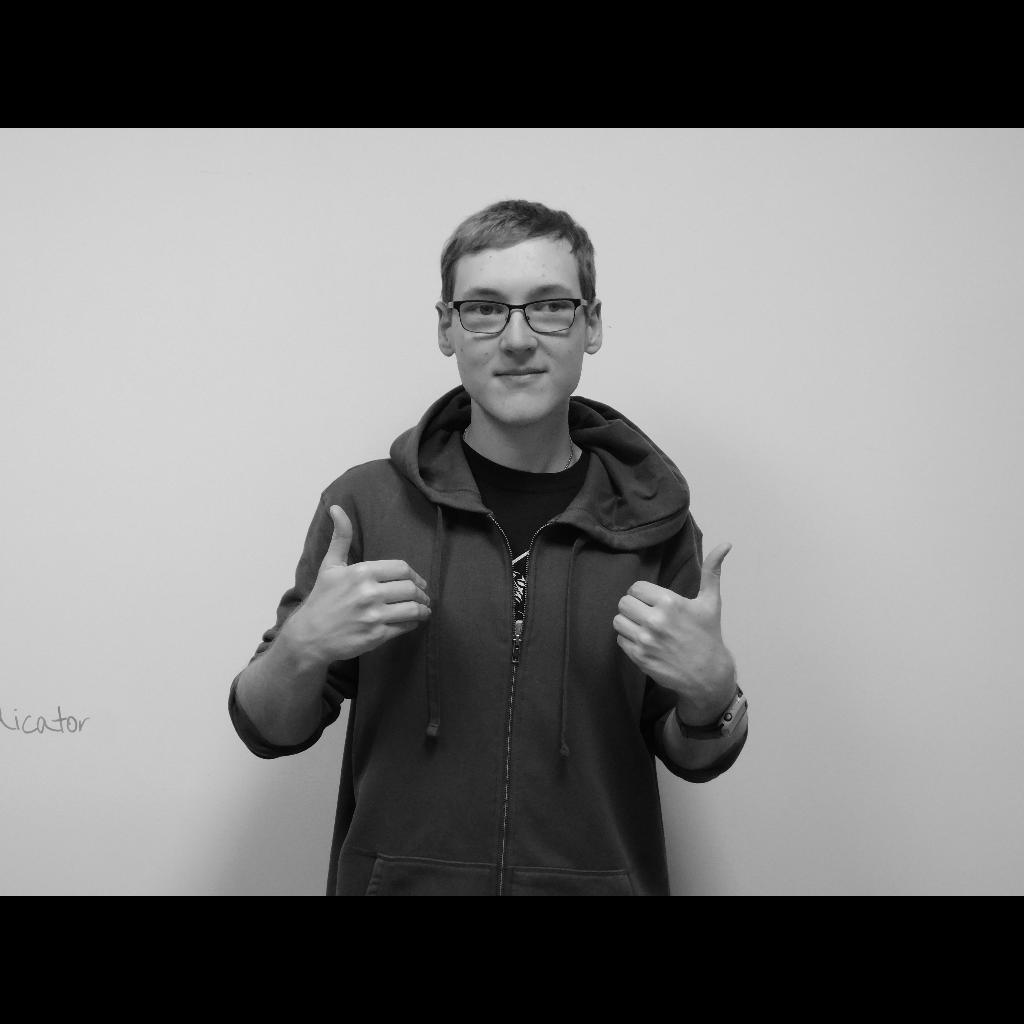have: (302, 505, 732, 691)
